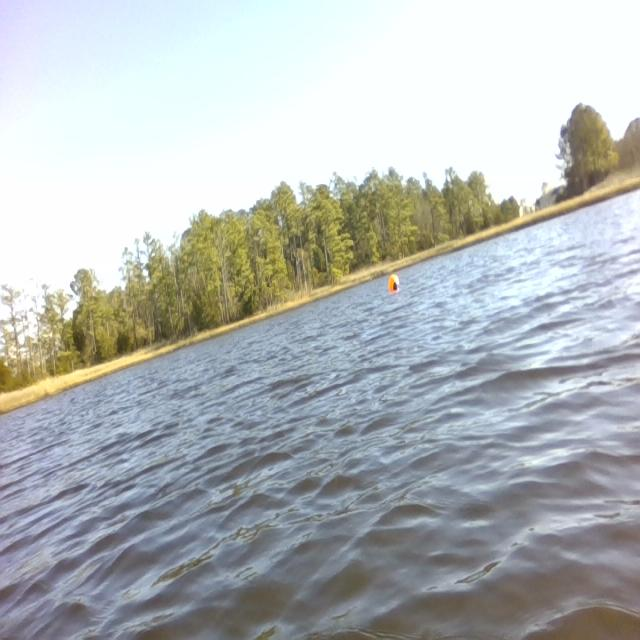Buoy: (385, 262, 403, 304)
